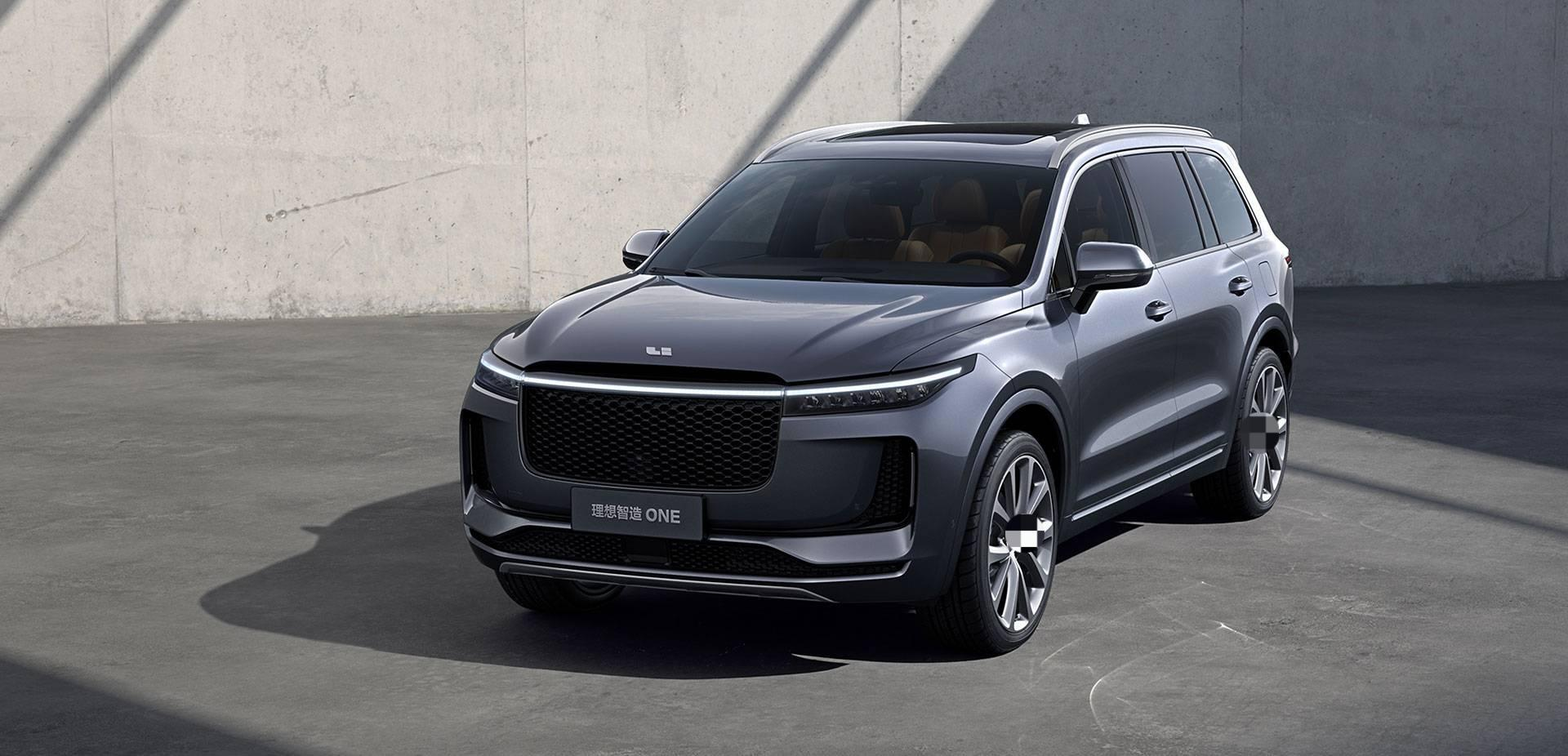Li Auto: (644, 345, 674, 357)
